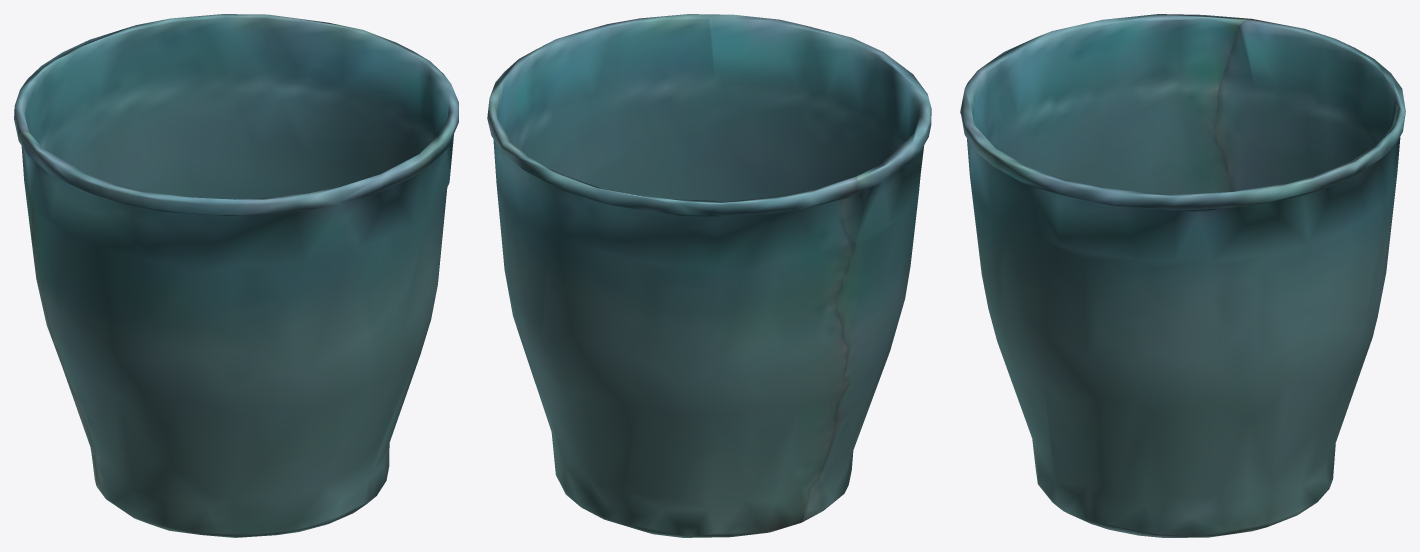
The model's file is Ecoforms_Pot_Nova_6_Turquoise-medium.glb.
The picture shows the model from 3 angles, left to right: view 1: azimuth 30°, elevation 25°; view 2: azimuth 150°, elevation 25°; view 3: azimuth 270°, elevation 25°; orthographic projection.
Visible parts, largest first — view 1: Ecoforms_Pot_Nova_6_Turquoise; view 2: Ecoforms_Pot_Nova_6_Turquoise; view 3: Ecoforms_Pot_Nova_6_Turquoise.
Part boxes in pixels (x1,y1,x2,y2): Ecoforms_Pot_Nova_6_Turquoise: [14, 14, 458, 537]; Ecoforms_Pot_Nova_6_Turquoise: [487, 14, 931, 537]; Ecoforms_Pot_Nova_6_Turquoise: [960, 14, 1405, 537].
Size of the model in its own units: 0.1801 by 0.1696 by 0.1799.
Materials: 1 (1 with a texture image).
